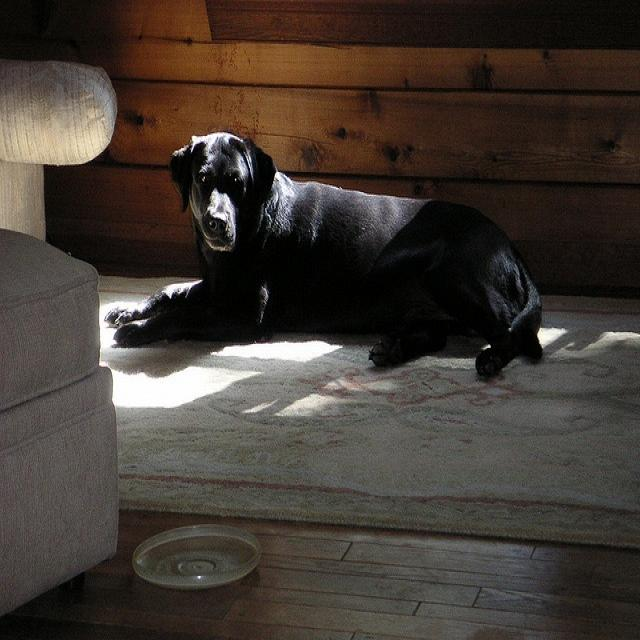dog: (98, 126, 547, 374)
